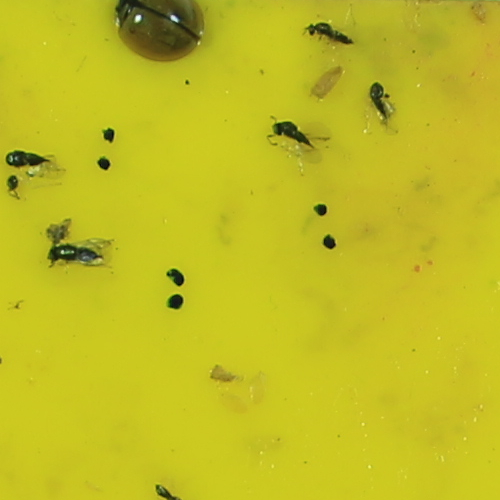Glycaspis: (271, 118, 317, 155), (46, 241, 105, 266), (6, 144, 50, 170)
